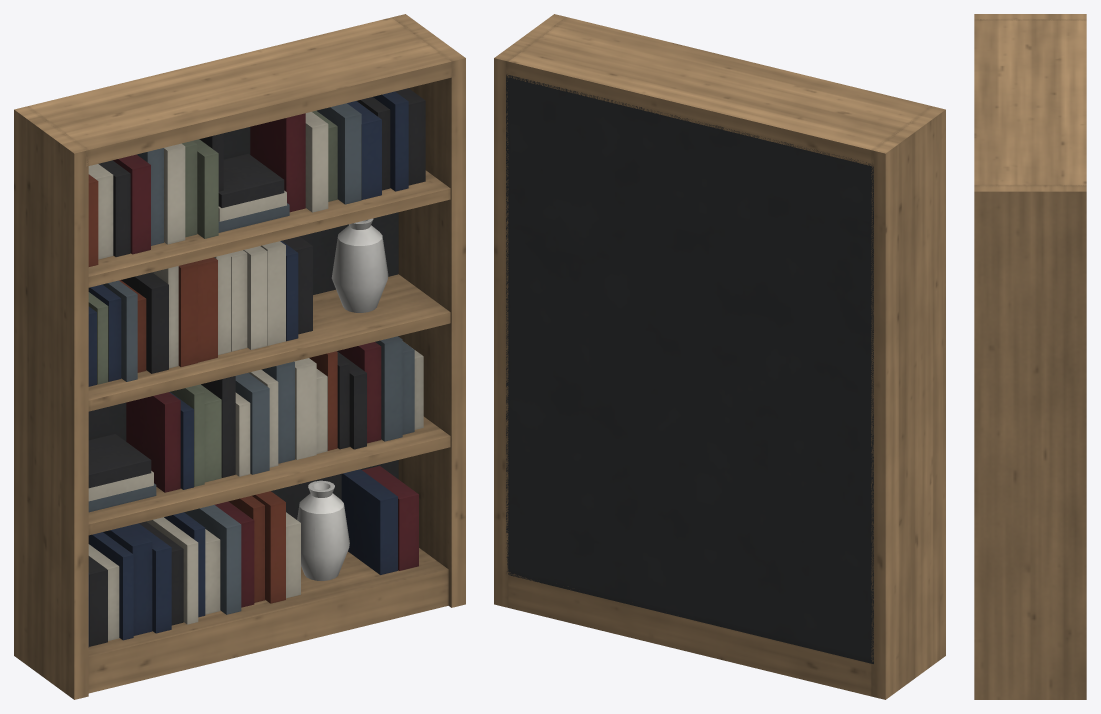
Rendered from H_Bookcase.fbx.
The picture shows the model from 3 angles, left to right: view 1: azimuth 30°, elevation 25°; view 2: azimuth 150°, elevation 25°; view 3: azimuth 270°, elevation 25°; orthographic projection. The views are drawn at different scales.
Visible parts, largest first — view 1: H_Bookcase; view 2: H_Bookcase; view 3: H_Bookcase.
Part boxes in pixels (left/top/right/bottom): H_Bookcase: left=14, top=14, right=465, bottom=699; H_Bookcase: left=494, top=14, right=945, bottom=699; H_Bookcase: left=974, top=14, right=1086, bottom=699.
Bounding box in the file's own units: 600 × 800 × 160.
1 material, 1 textured.
